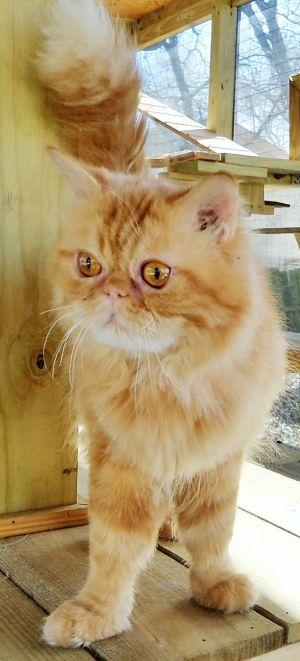persian: (44, 150, 252, 371)
